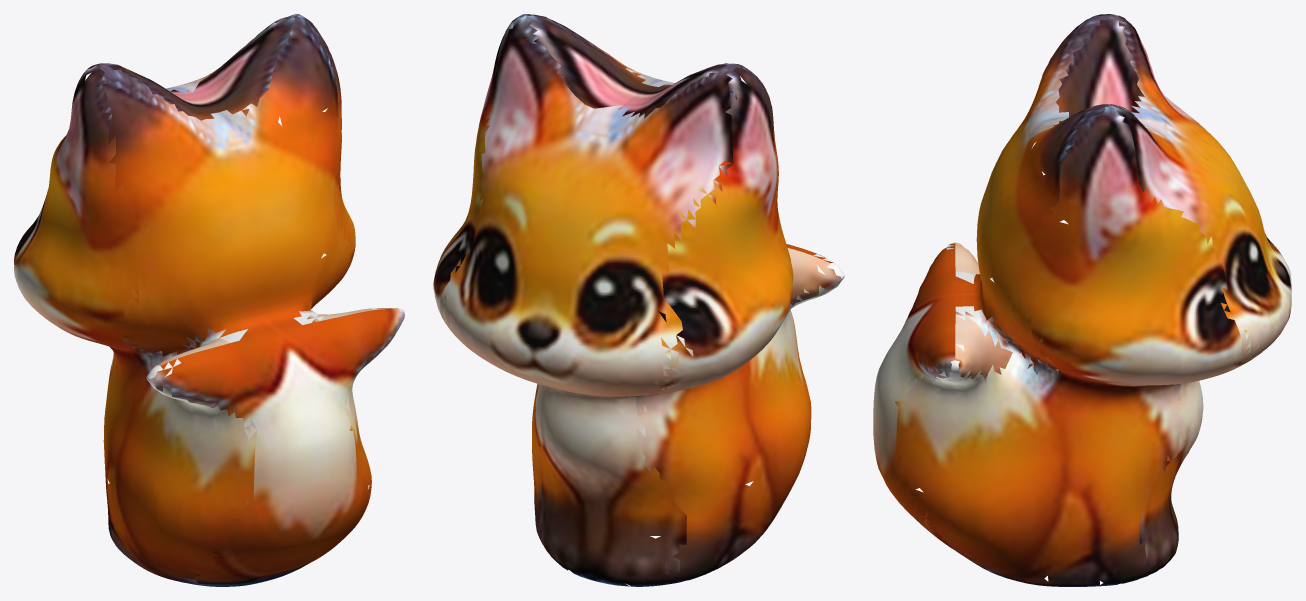
Rendered from Renard.glb.
3 renders of one model, left to right at view 1: azimuth 30°, elevation 25°; view 2: azimuth 150°, elevation 25°; view 3: azimuth 270°, elevation 25°, orthographic. The views are drawn at different scales.
Parts seen in each view (by area): view 1: Renard; view 2: Renard; view 3: Renard.
Part boxes in pixels (left/top/right/bottom): Renard: left=14, top=14, right=404, bottom=586; Renard: left=433, top=14, right=844, bottom=586; Renard: left=873, top=14, right=1291, bottom=586.
Size of the model in its own units: 2.6 by 4.15 by 3.15.
1 material, 1 textured.
